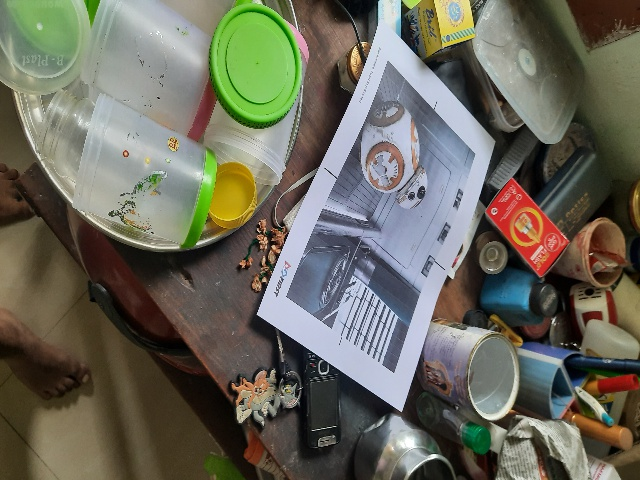bpt1: (317, 40, 450, 401)
